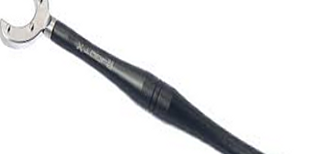wrench: (1, 2, 267, 154)
